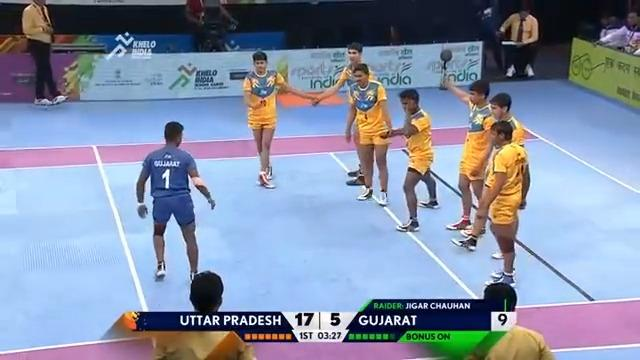Player: (450, 119, 530, 288), (241, 50, 318, 188), (310, 41, 376, 184), (152, 270, 257, 359), (379, 88, 440, 232), (441, 74, 495, 235), (481, 92, 527, 259), (344, 62, 393, 205), (20, 0, 68, 105)
Raider: (135, 120, 215, 282)
referee: (464, 281, 555, 359), (497, 6, 539, 78), (183, 0, 238, 51), (473, 2, 505, 78)
